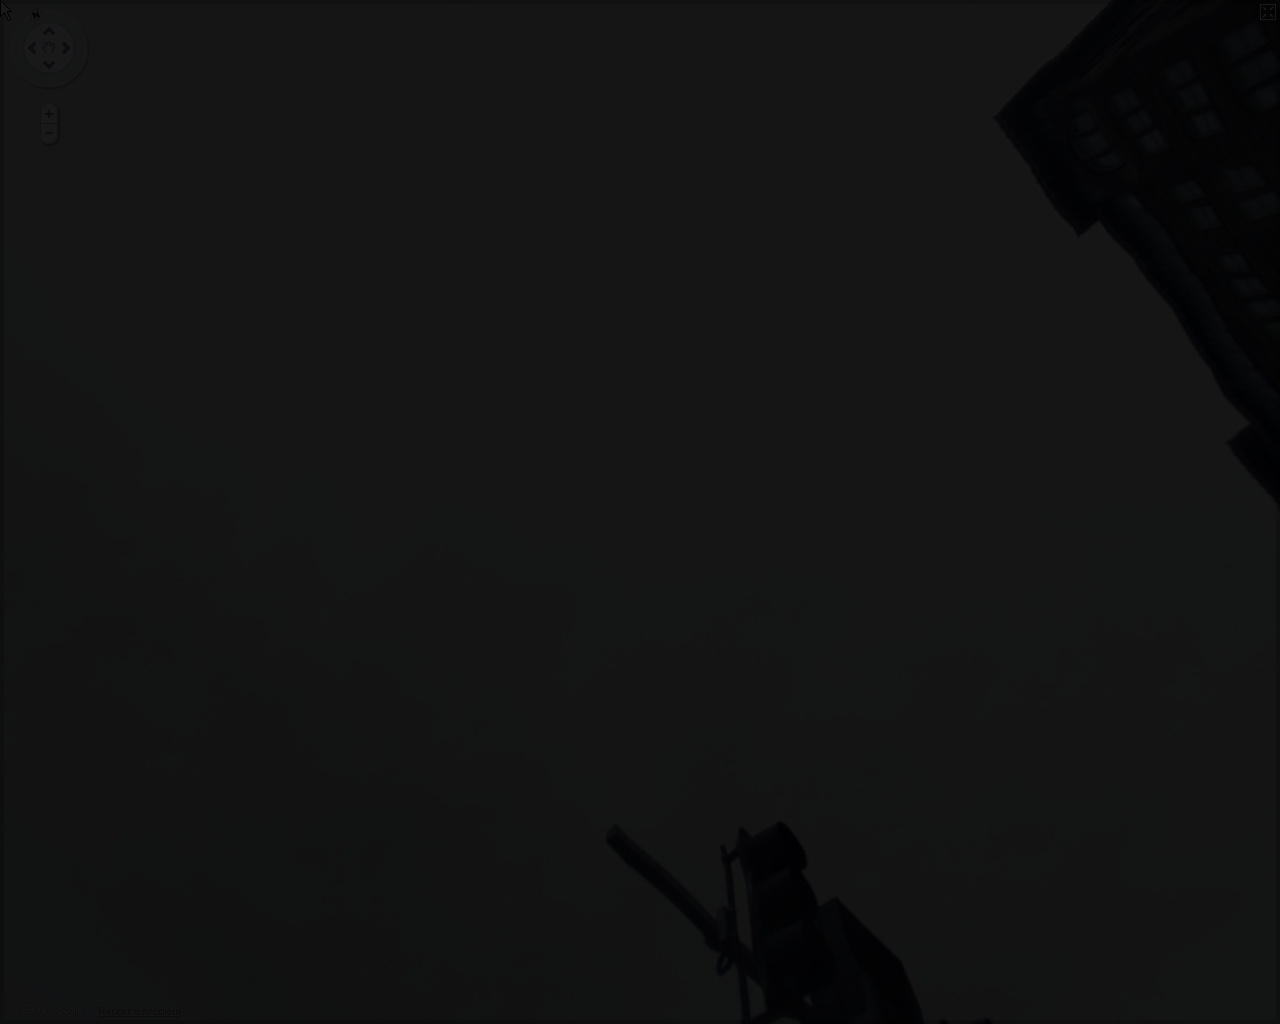traffic_light: (726, 822, 920, 1016)
